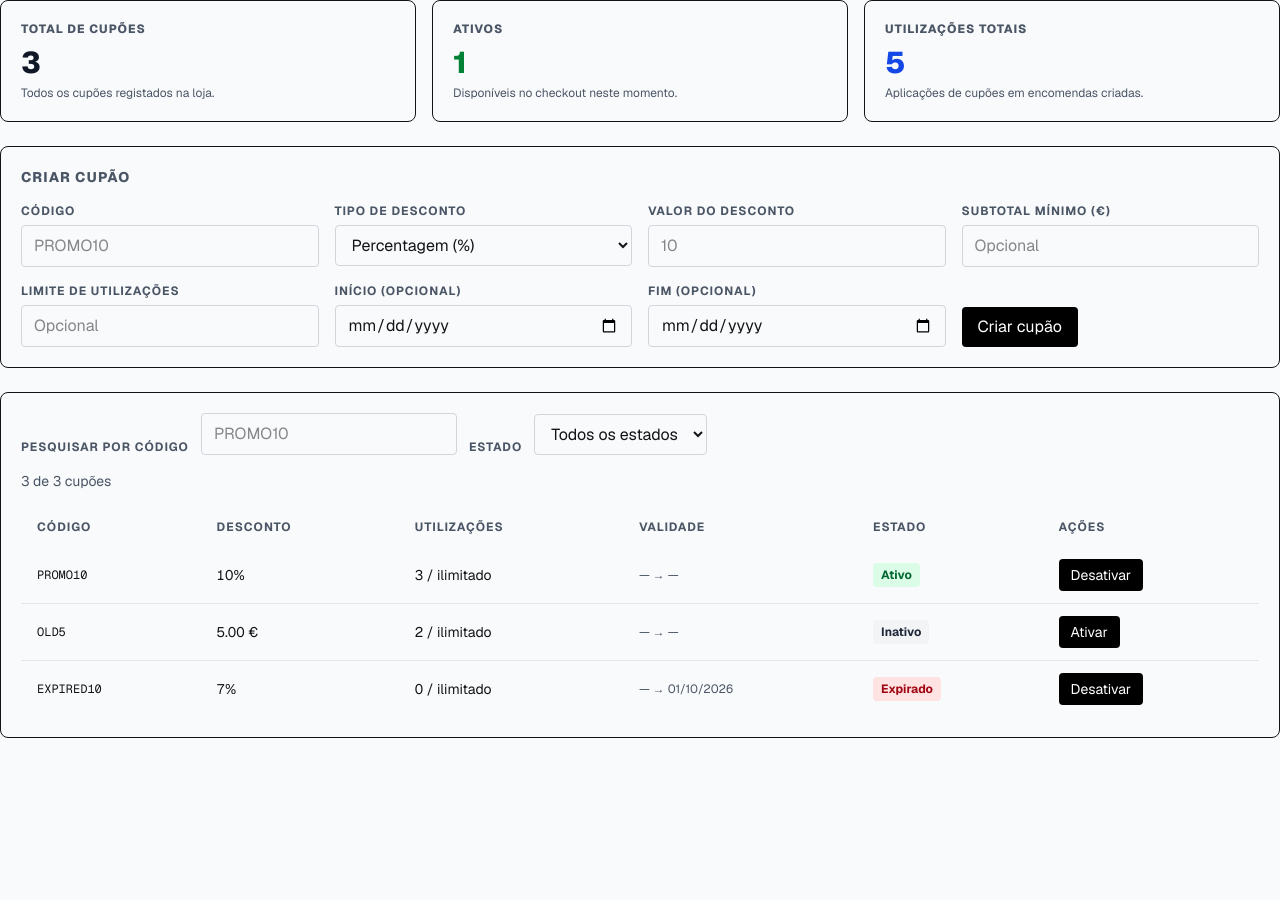
Test case: Admin Coupons Client › toggle desativa o cupão e recarrega a vista
expect the text "PROMO10" is shown: met, box [21, 547, 201, 604]
Click the button named "Desativar cupão PROMO10" at (1101,575), box [1058, 559, 1143, 591]
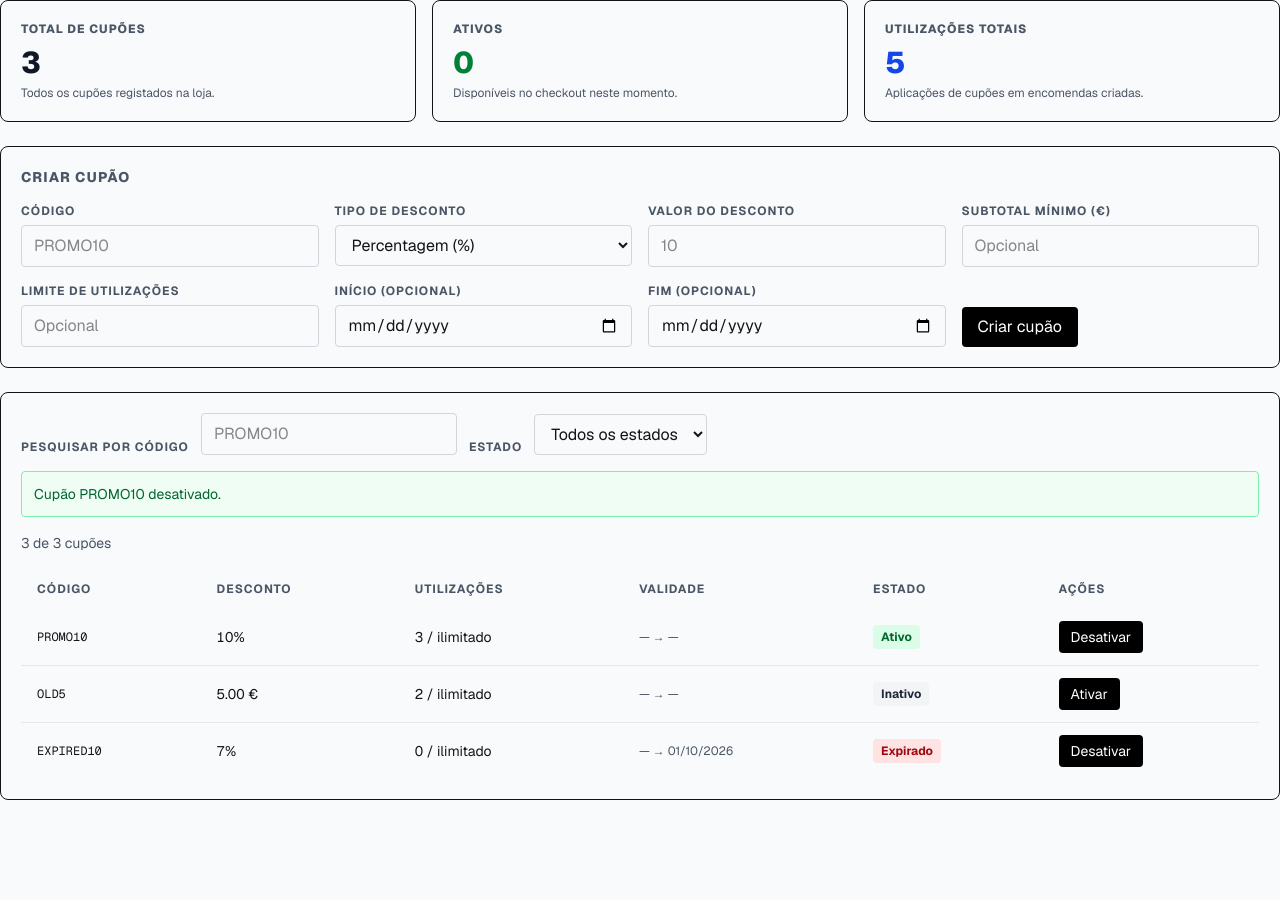
expect the message reads "Cupão PROMO10 desativado.": met, box [34, 485, 221, 503]
